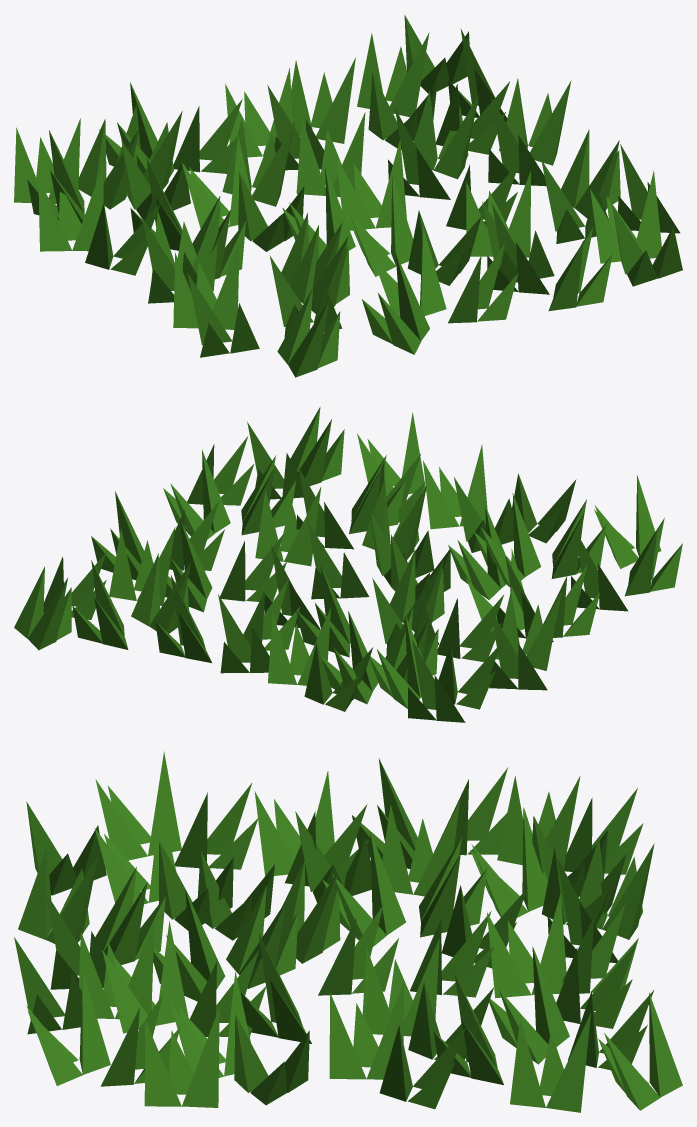
The model's file is grass.fbx.
3 views of the same model, one above another, from view 1: azimuth 30°, elevation 25°; view 2: azimuth 150°, elevation 25°; view 3: azimuth 270°, elevation 25° (orthographic). The views are drawn at different scales.
Parts seen in each view (by area): view 1: Cylinder.002; view 2: Cylinder.002; view 3: Cylinder.002.
Boxes of the visible parts, x1,y1,x2,y2 form: Cylinder.002: (14, 15, 682, 377); Cylinder.002: (14, 407, 682, 722); Cylinder.002: (14, 751, 682, 1112).
Size of the model in its own units: 374 by 54.18 by 374.
